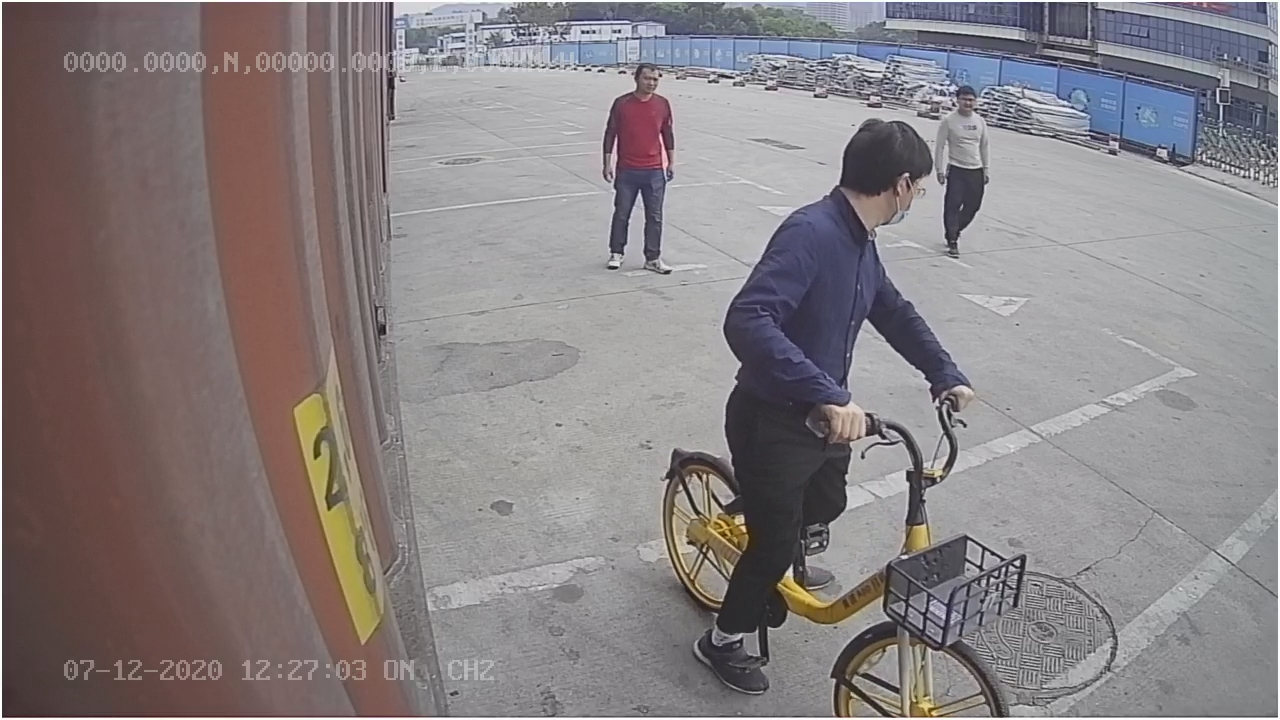person: (598, 52, 681, 276)
